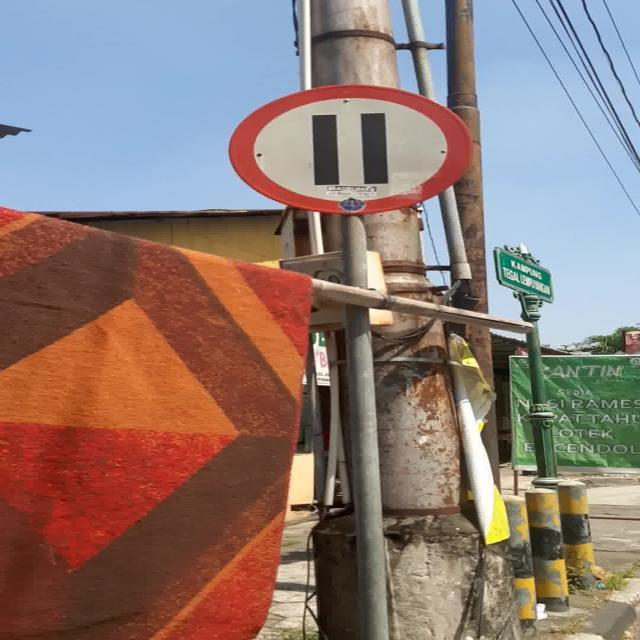Larangan Muatan - 10 ton: (229, 84, 472, 214)
